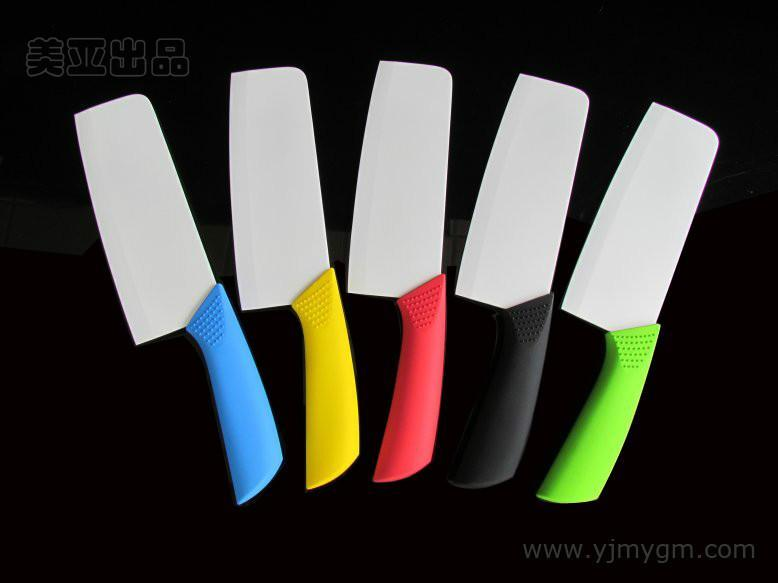knief: (55, 91, 352, 494)
